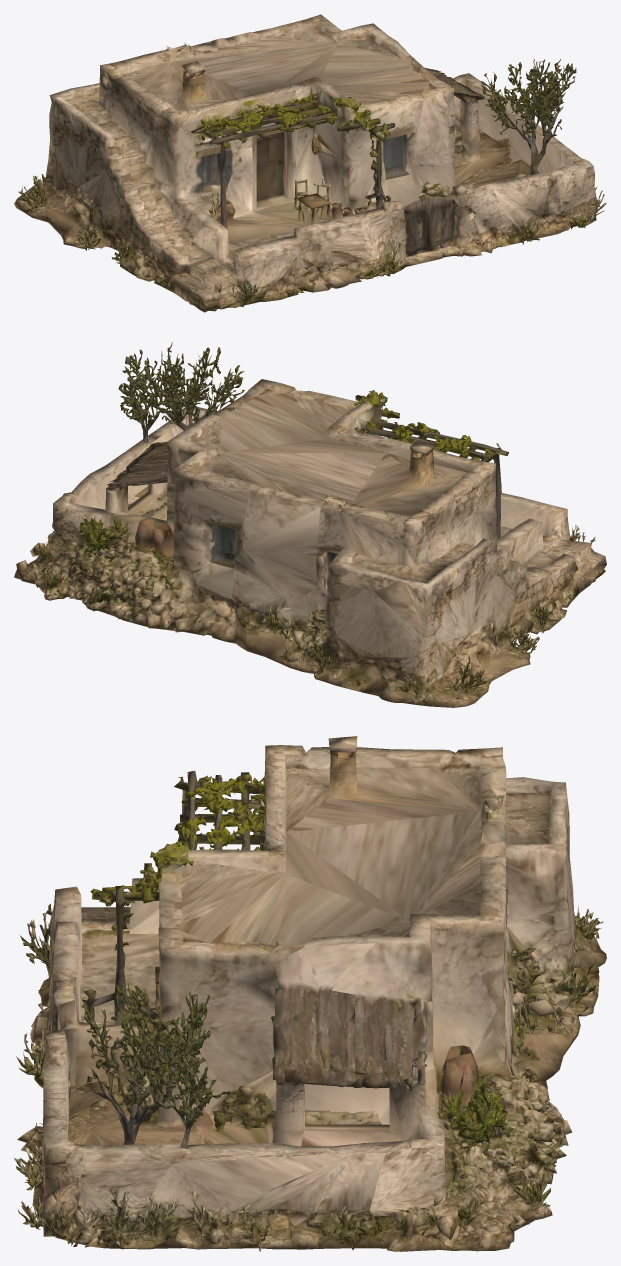
The model's file is Olive_Grove_Cottage.glb.
The picture shows the model from 3 angles, top to bottom: view 1: azimuth 30°, elevation 25°; view 2: azimuth 150°, elevation 25°; view 3: azimuth 270°, elevation 25°; orthographic projection. The views are drawn at different scales.
Parts seen in each view (by area): view 1: Olive_Grove_Cottage; view 2: Olive_Grove_Cottage; view 3: Olive_Grove_Cottage.
Part boxes in pixels (x1,y1,x2,y2): Olive_Grove_Cottage: (14, 14, 606, 312); Olive_Grove_Cottage: (14, 342, 606, 707); Olive_Grove_Cottage: (14, 736, 606, 1251).
Bounding box in the file's own units: 1.81 × 0.6343 × 1.32.
Materials: 1 (1 with a texture image).
